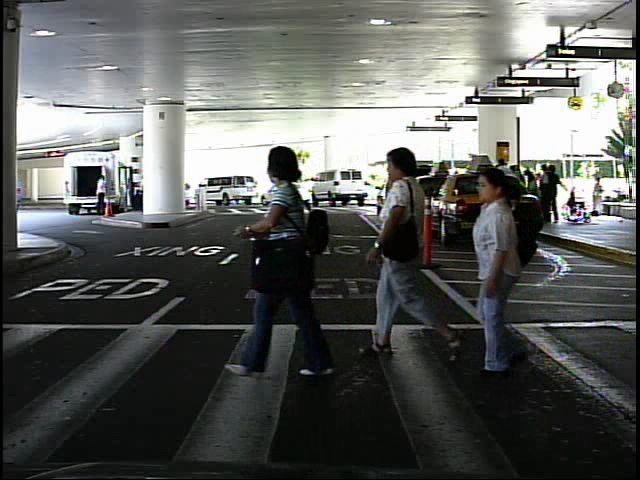person: (246, 141, 354, 389), (436, 168, 554, 382), (362, 139, 451, 360), (91, 170, 109, 220), (588, 172, 607, 218)
